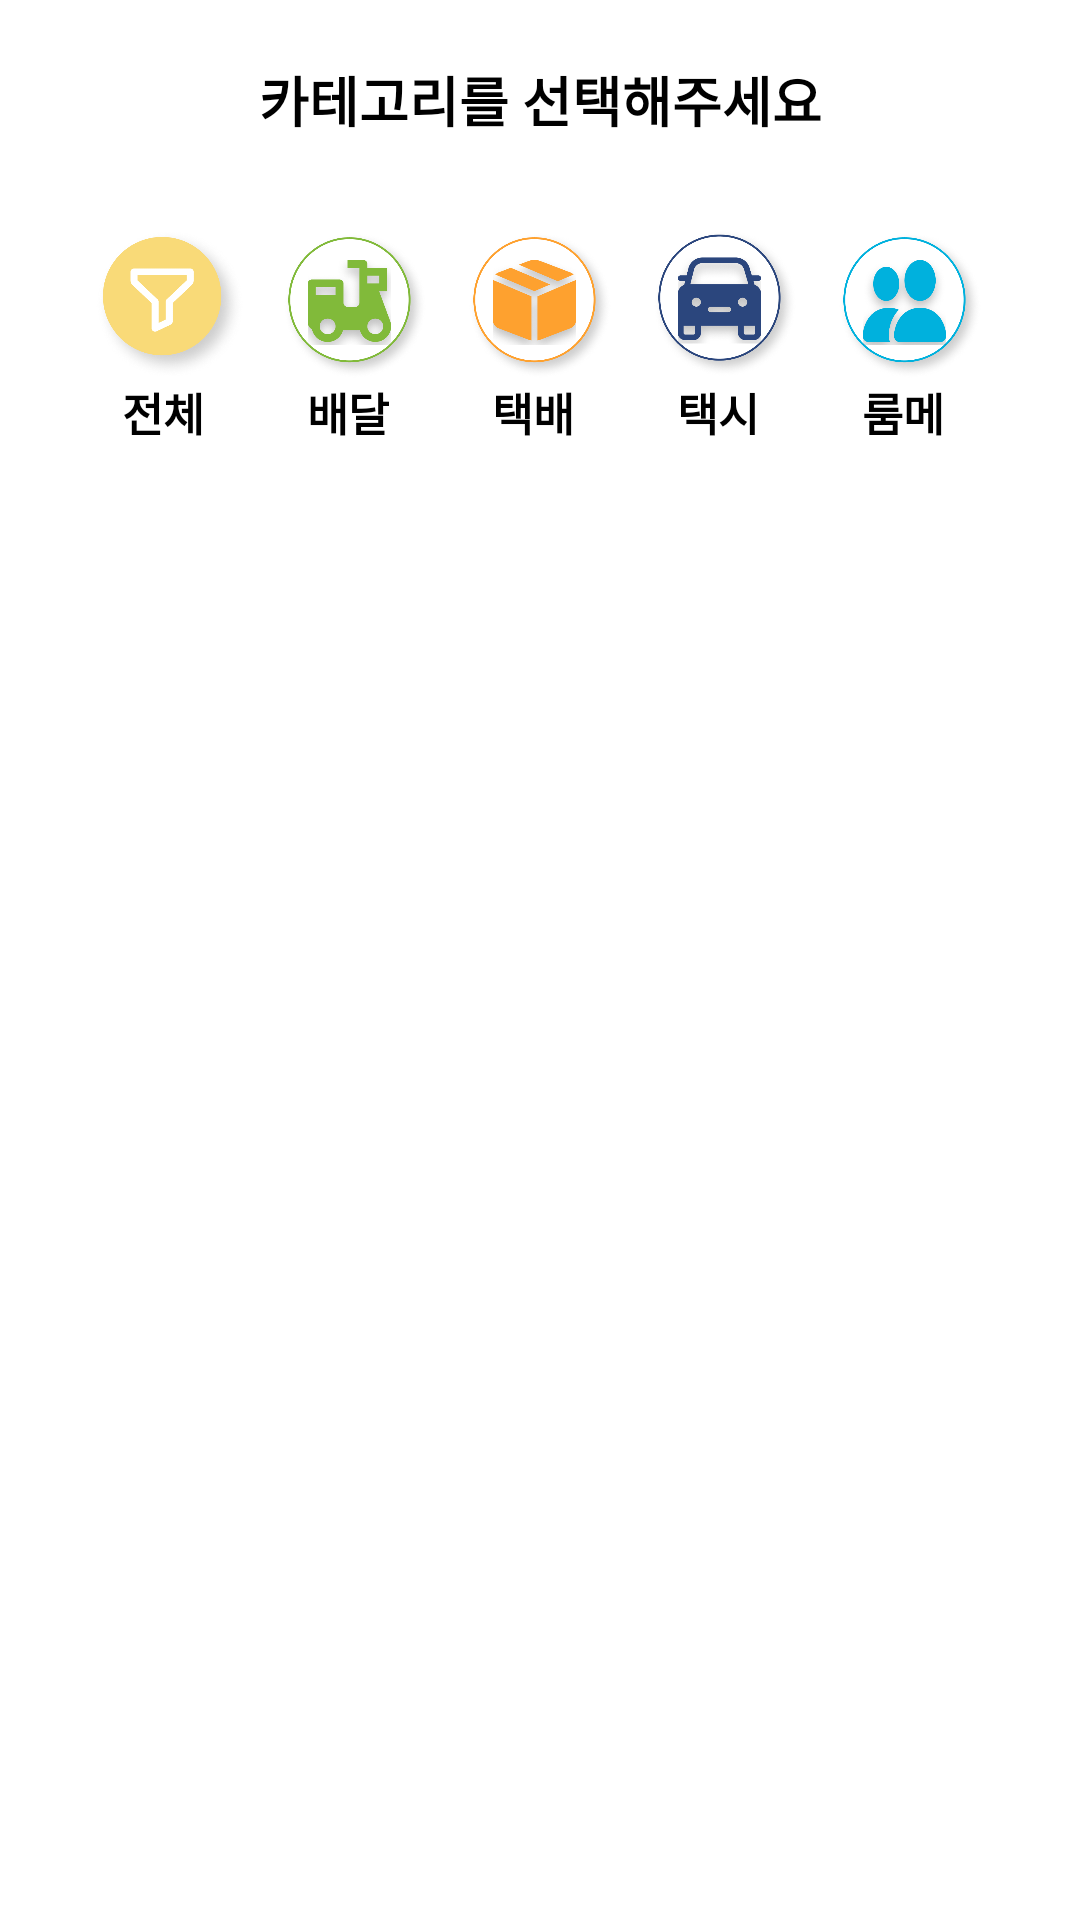

Where to tap for icons on this 1080x1920 app screen, as point (x, y):
filtered search: point (166, 300)
